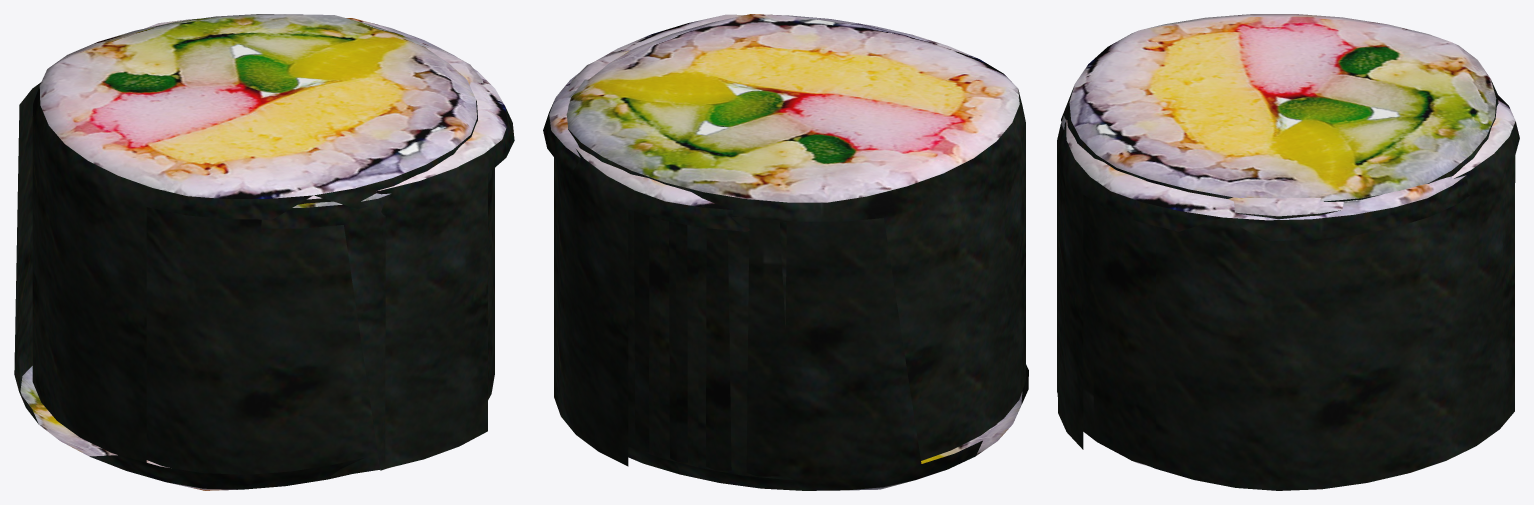
The model's file is sushi_piece.fbx.
The picture shows the model from 3 angles, left to right: view 1: azimuth 30°, elevation 25°; view 2: azimuth 150°, elevation 25°; view 3: azimuth 270°, elevation 25°; orthographic projection.
Parts seen in each view (by area): view 1: sushi.003, sushi.002, sushi.001, sushi.004; view 2: sushi.003, sushi.004, sushi.001, sushi.002; view 3: sushi.001, sushi.003, sushi.002.
Part boxes in pixels (box(x1,y1,x2,y2)): sushi.003: box(32, 14, 477, 462); sushi.002: box(146, 18, 514, 476); sushi.001: box(145, 18, 494, 470); sushi.004: box(14, 82, 363, 490); sushi.003: box(566, 14, 1025, 479); sushi.004: box(628, 211, 1028, 490); sushi.001: box(554, 50, 750, 466); sushi.002: box(543, 14, 745, 175); sushi.001: box(1057, 94, 1519, 490); sushi.003: box(1061, 14, 1498, 201); sushi.002: box(1057, 119, 1470, 449).
Bounding box in the file's own units: 10.23 × 7.09 × 9.69.
